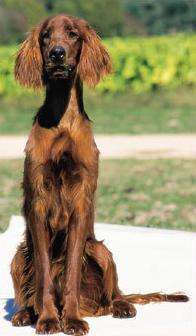Irish_setter: (13, 15, 189, 335)
